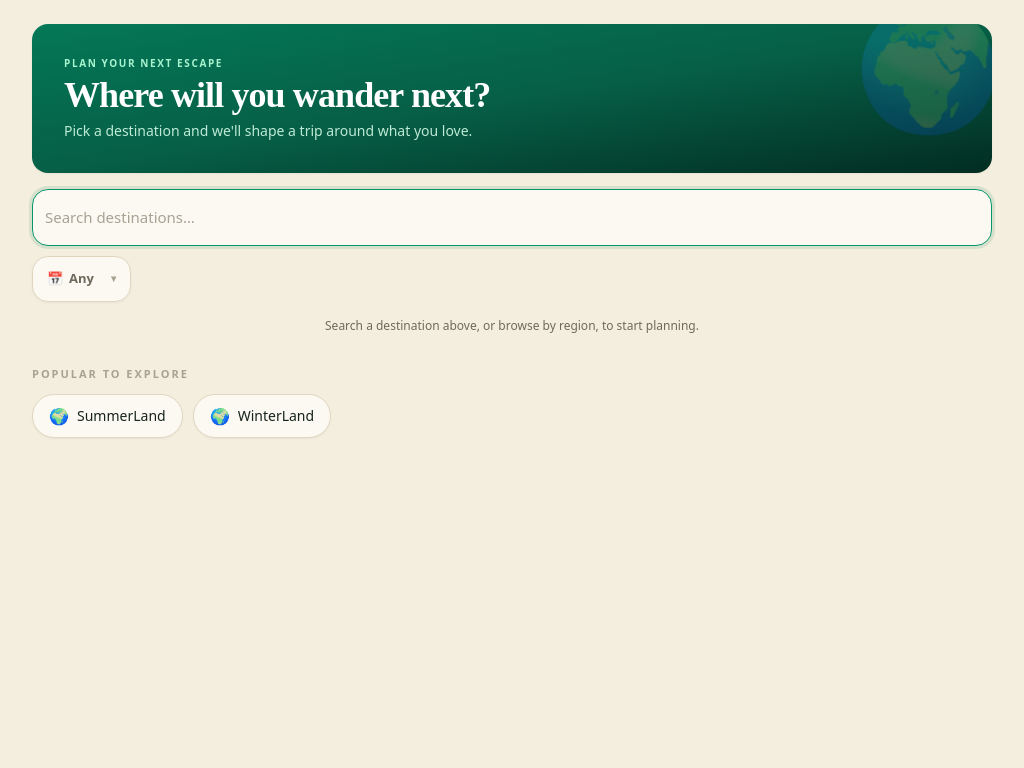
Test case: DestinationPicker › month filter › clears the month back to any-month order
Step 1. Click the button with aria-label "travel month" → (82, 278), box x1=32 y1=256 x2=131 y2=302
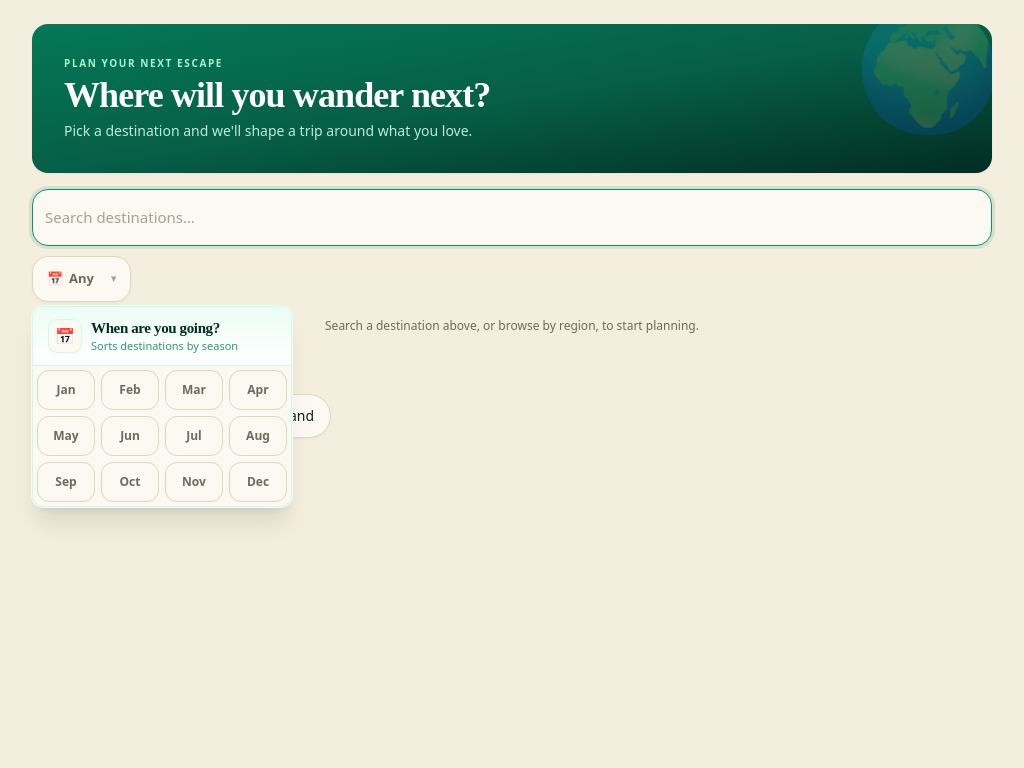
Step 2. Click the button with aria-label "July" → (194, 436), box x1=165 y1=416 x2=223 y2=456
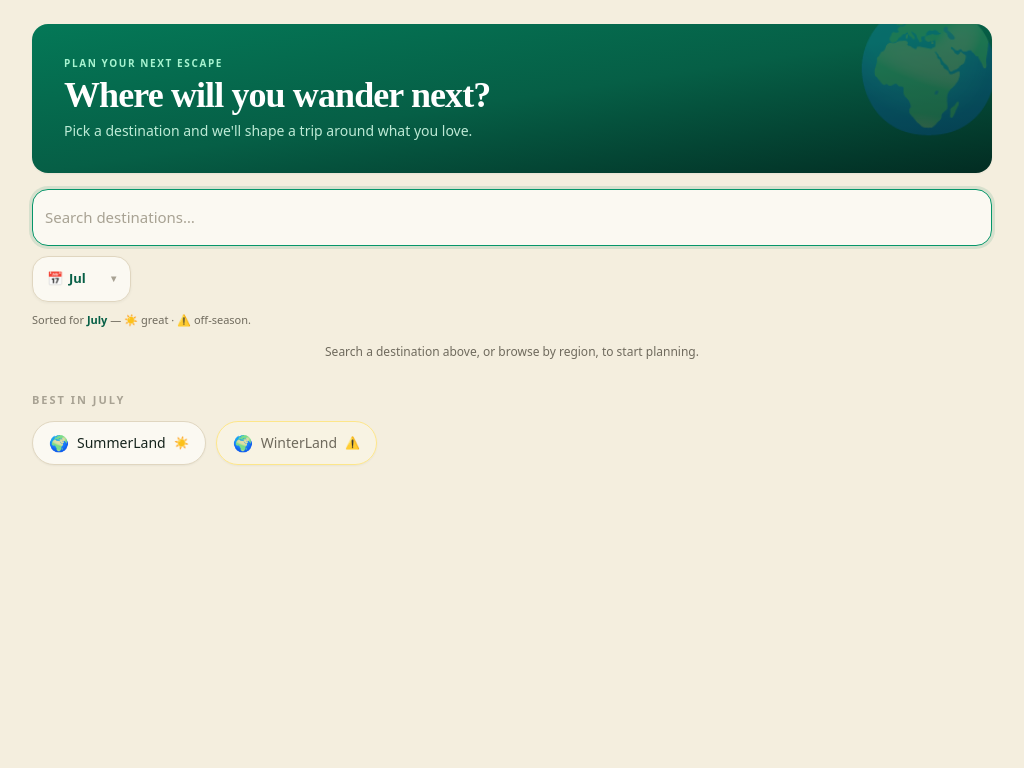
Step 3. Click the button with aria-label "travel month" → (82, 278), box x1=32 y1=256 x2=131 y2=302
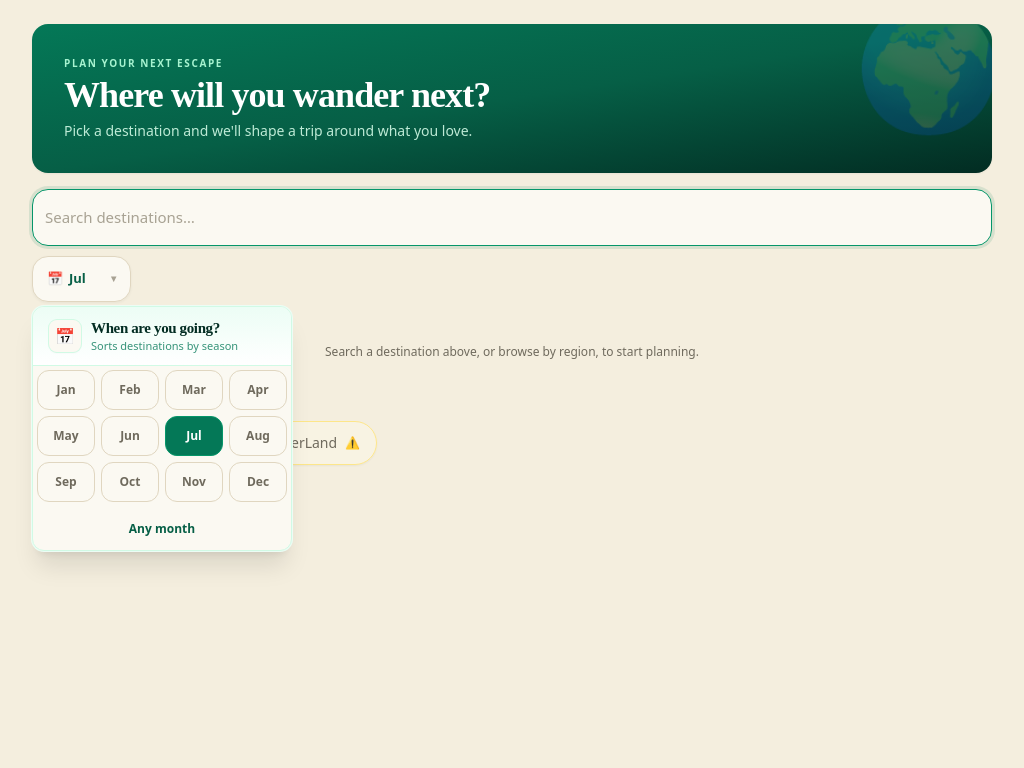
Step 4. Click the button "Any month" → (162, 529), box x1=37 y1=512 x2=287 y2=546
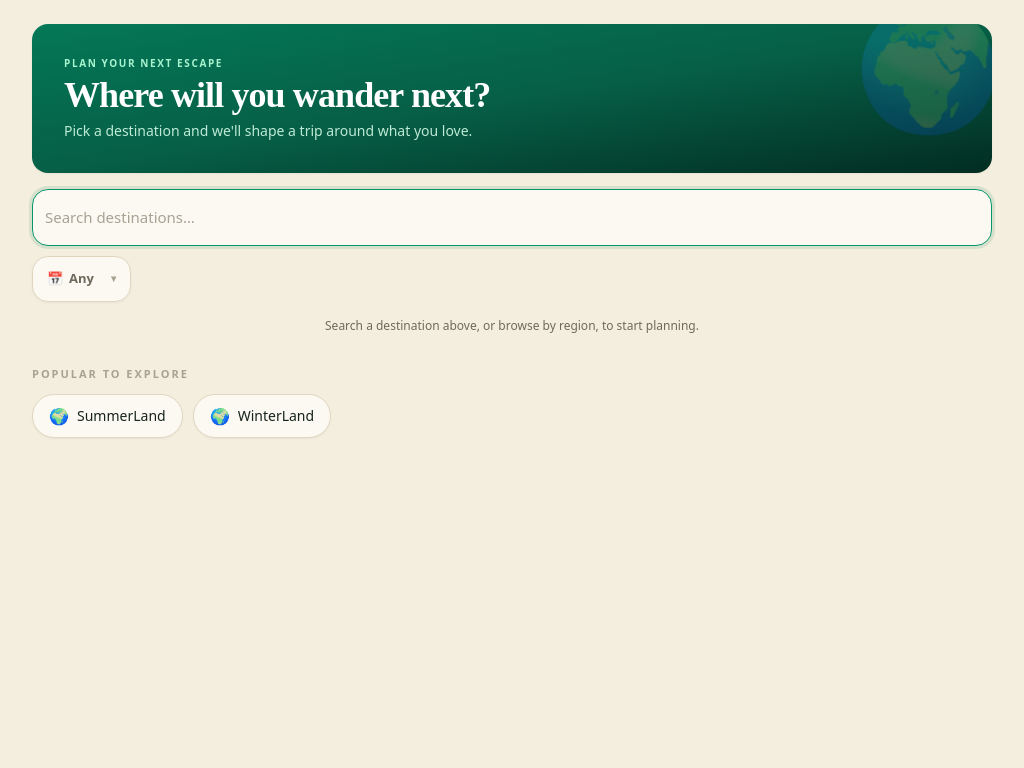
Check: the heading "Popular to explore" is shown, box x1=32 y1=366 x2=189 y2=380
Check: the heading "Best in July" is gone
